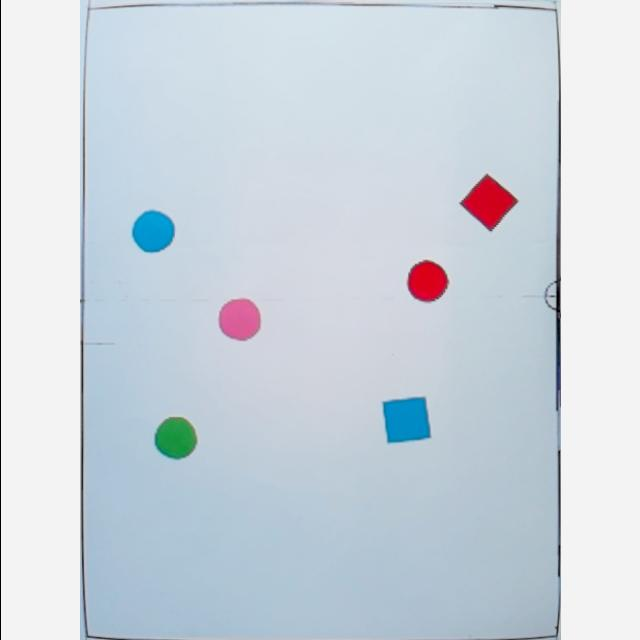blueCircle: (131, 210, 177, 254)
blueSquare: (382, 396, 432, 444)
greenCircle: (154, 416, 198, 460)
pinkCircle: (218, 298, 262, 342)
redCircle: (407, 259, 451, 303)
redSquare: (459, 173, 519, 233)
